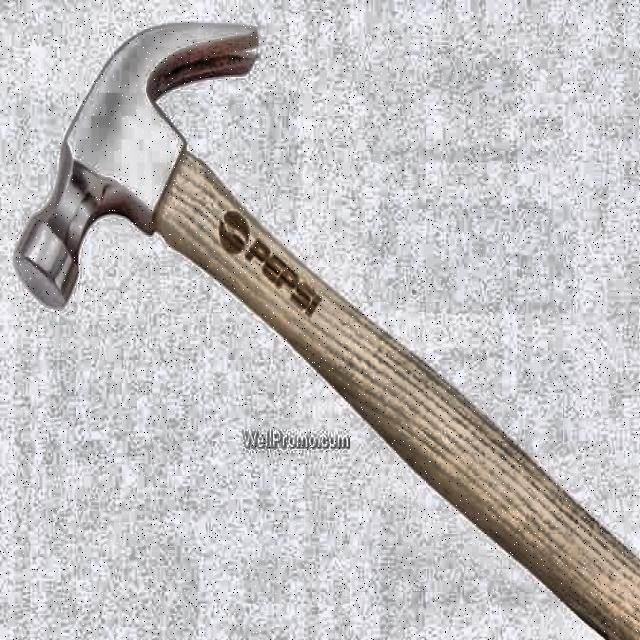hammer: (10, 20, 638, 640)
